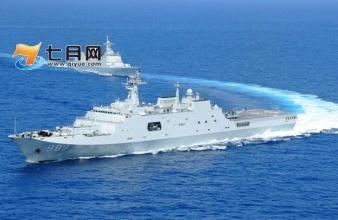warship: (22, 71, 301, 158), (66, 31, 143, 73)
